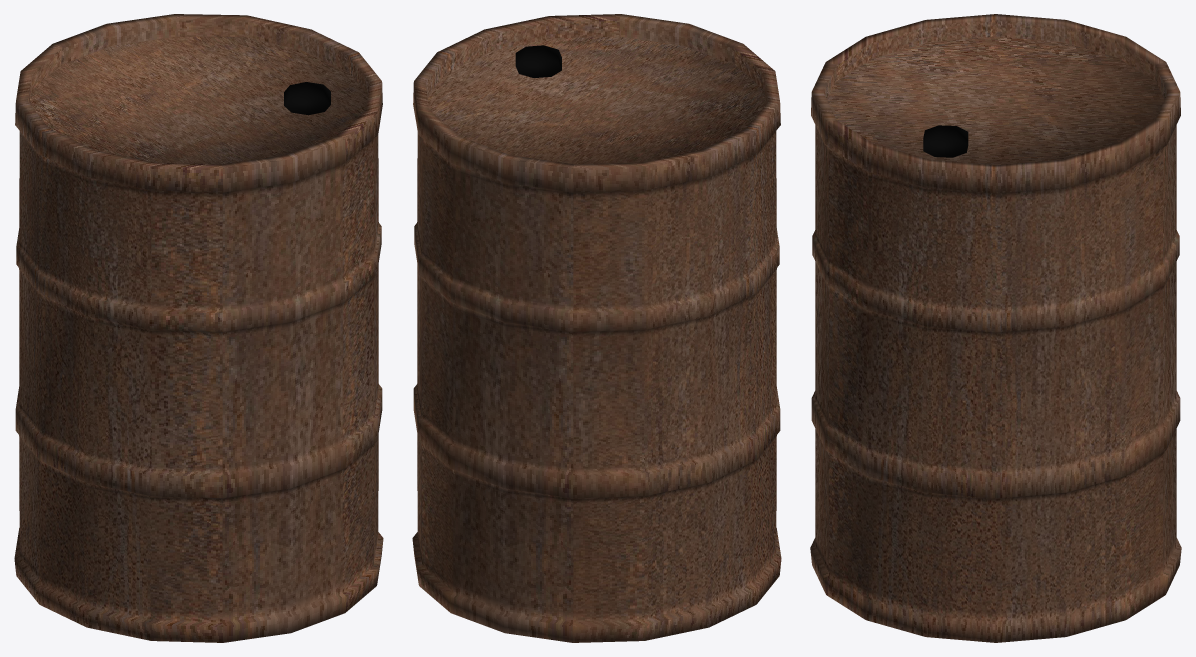
Rendered from barrel 1.glb.
3 renders of one model, left to right at view 1: azimuth 30°, elevation 25°; view 2: azimuth 150°, elevation 25°; view 3: azimuth 270°, elevation 25°, orthographic.
Visible parts, largest first — view 1: Cylinder.015; view 2: Cylinder.015; view 3: Cylinder.015.
Part boxes in pixels (x1=…): Cylinder.015: x1=14, y1=14, x2=383, y2=642; Cylinder.015: x1=412, y1=14, x2=781, y2=642; Cylinder.015: x1=810, y1=14, x2=1181, y2=642.
Size of the model in its own units: 1.01 by 1.42 by 1.01.
Materials: 2 (1 with a texture image).
